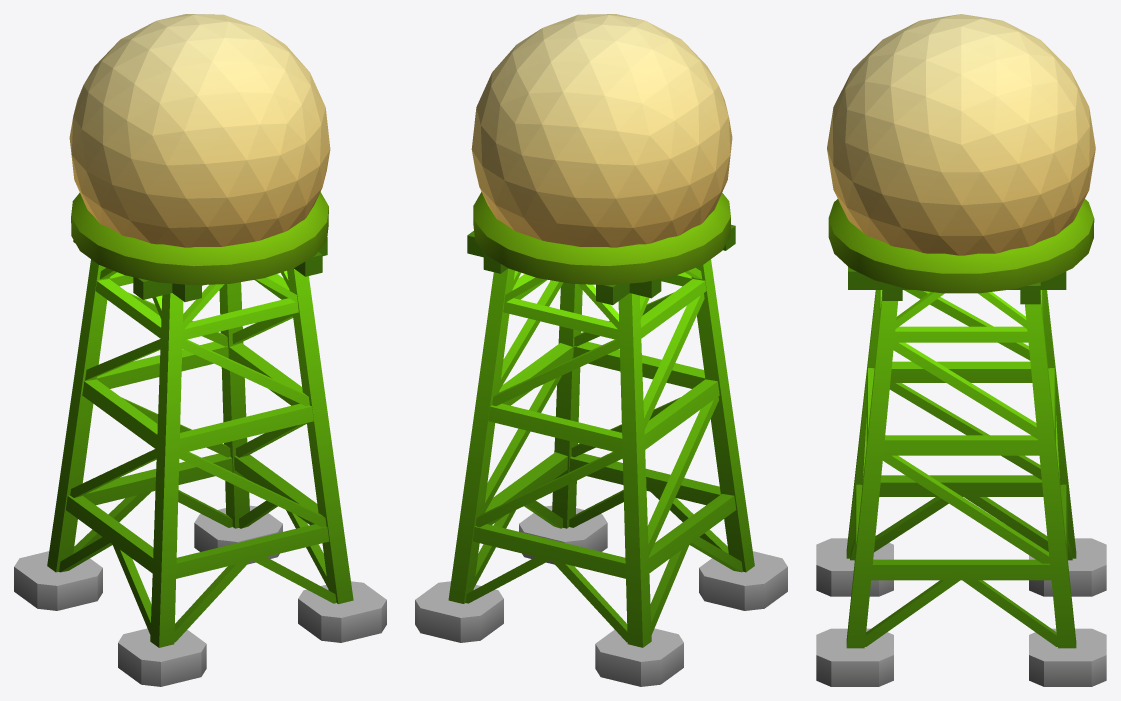
File: Prop_Army_Radar_01.fbx
The picture shows the model from 3 angles, left to right: view 1: azimuth 30°, elevation 25°; view 2: azimuth 150°, elevation 25°; view 3: azimuth 270°, elevation 25°; orthographic projection. The views are drawn at different scales.
Visible parts, largest first — view 1: Prop_Army_Radar_01; view 2: Prop_Army_Radar_01; view 3: Prop_Army_Radar_01.
Part boxes in pixels (x1=…): Prop_Army_Radar_01: x1=14, y1=14, x2=386, y2=686; Prop_Army_Radar_01: x1=415, y1=14, x2=787, y2=686; Prop_Army_Radar_01: x1=816, y1=14, x2=1106, y2=686.
Size of the model in its own units: 204 by 464 by 204.
